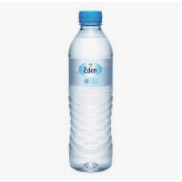Bottle: (69, 10, 113, 171)
